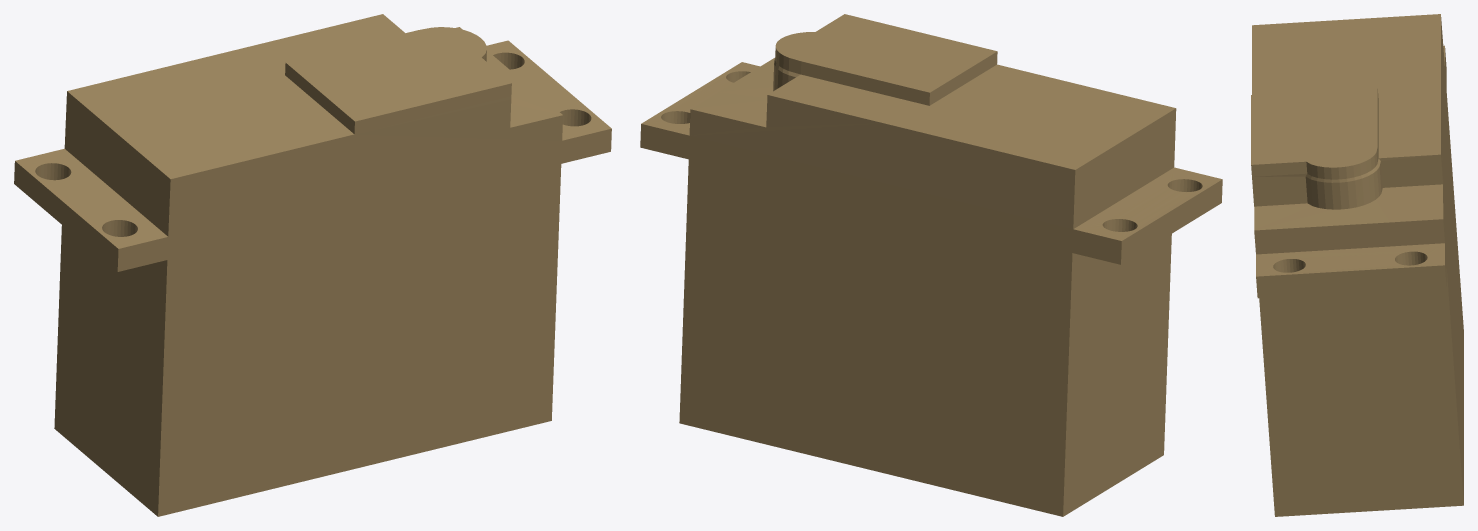
Rendered from Texture.224.dae.full.glb.
3 views of the same model, side by side, from view 1: azimuth 30°, elevation 25°; view 2: azimuth 150°, elevation 25°; view 3: azimuth 270°, elevation 25° (orthographic). The views are drawn at different scales.
Size of the model in its own units: 0.7755 by 0.5533 by 0.3176.
